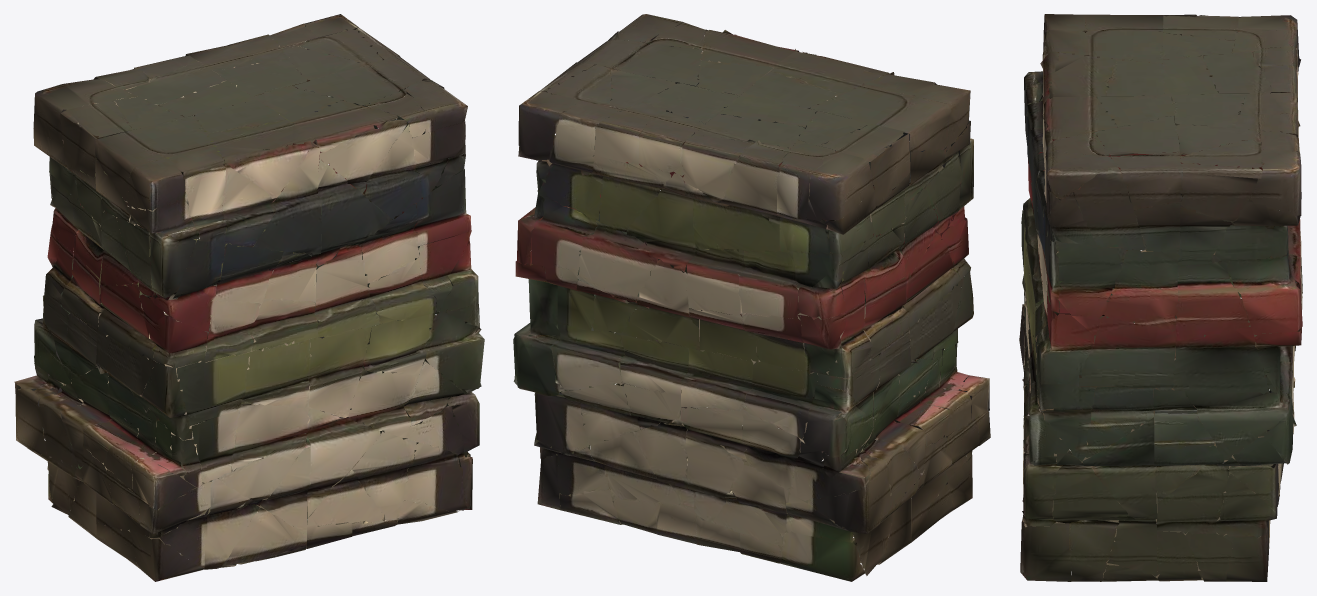
The model's file is tape-stack.glb.
The picture shows the model from 3 angles, left to right: view 1: azimuth 30°, elevation 25°; view 2: azimuth 150°, elevation 25°; view 3: azimuth 270°, elevation 25°; orthographic projection. The views are drawn at different scales.
Visible parts, largest first — view 1: Model; view 2: Model; view 3: Model.
Part boxes in pixels (x1,y1,x2,y2): Model: (14,14,484,581); Model: (513,14,990,581); Model: (1019,14,1302,581).
Size of the model in its own units: 1.81 by 2.02 by 1.24.
Materials: 1 (1 with a texture image).
